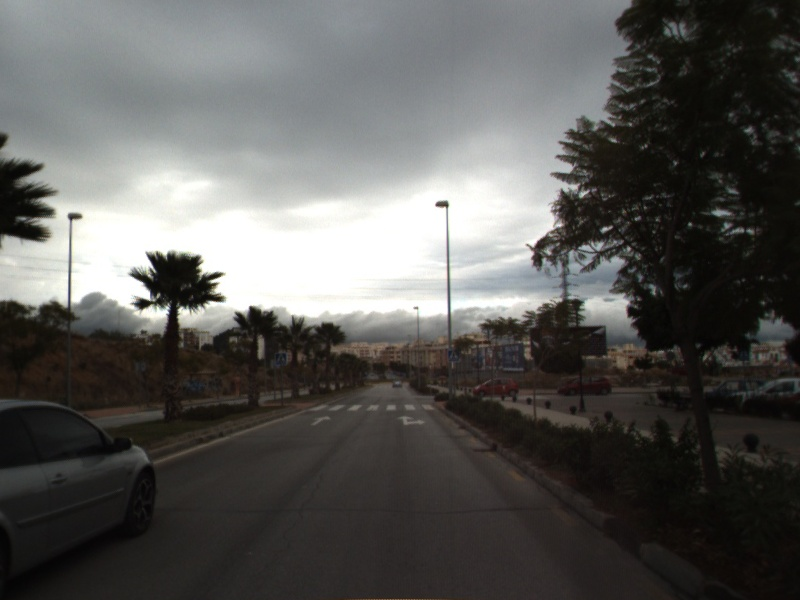STRAIGHT: (309, 414, 333, 427)
STRAIGHT_RIGHT: (395, 413, 427, 427)
